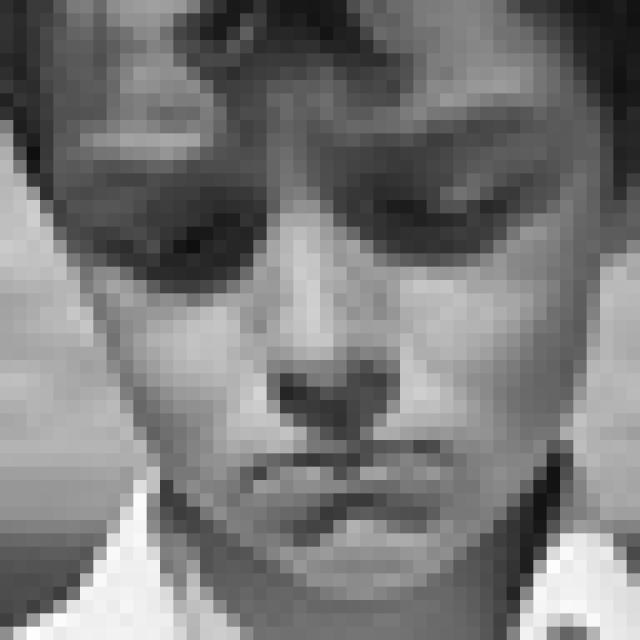sad: (62, 113, 560, 548)
